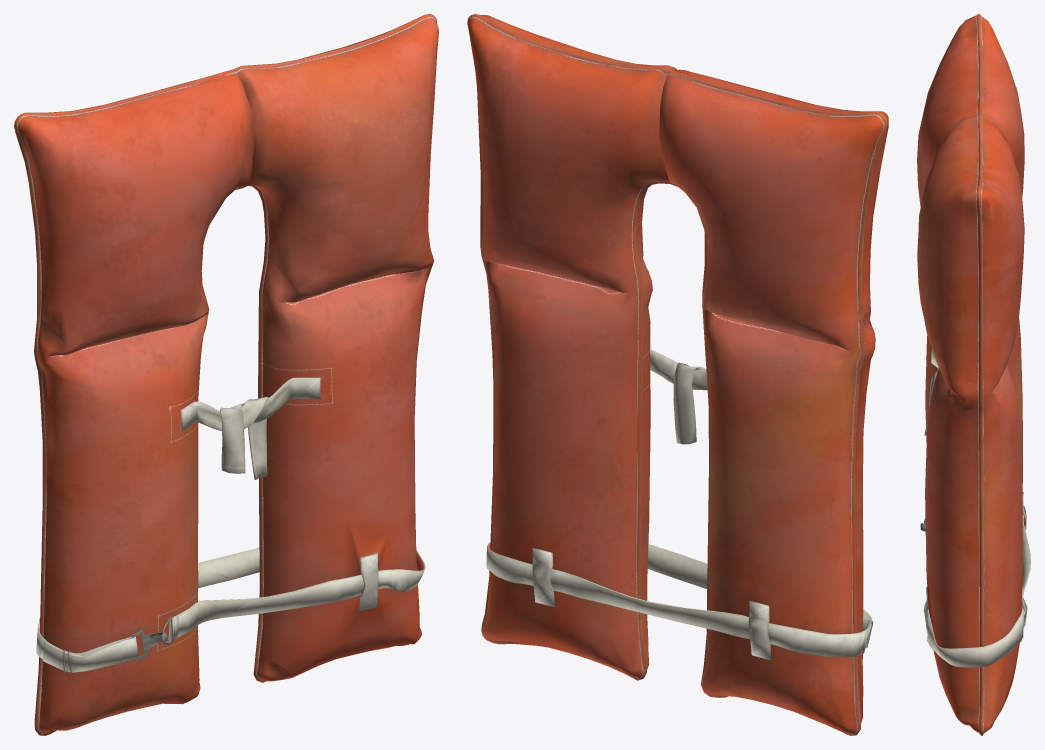
File: life_jacket.glb
3 renders of one model, left to right at view 1: azimuth 30°, elevation 25°; view 2: azimuth 150°, elevation 25°; view 3: azimuth 270°, elevation 25°, orthographic. The views are drawn at different scales.
Parts seen in each view (by area): view 1: life_jacket; view 2: life_jacket; view 3: life_jacket.
Part boxes in pixels (x1,y1,x2,y2): life_jacket: (14,14,438,735); life_jacket: (467,14,888,735); life_jacket: (917,14,1030,735).
Bounding box in the file's own units: 0.6954 × 0.9923 × 0.1841.
Materials: 1 (1 with a texture image).
